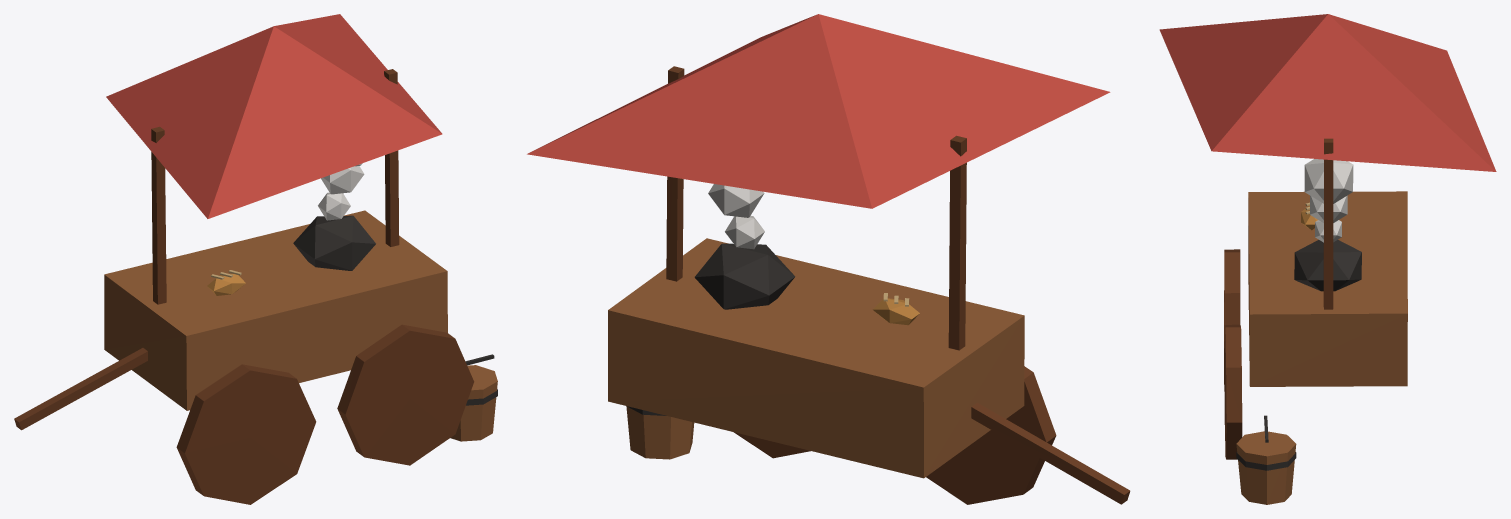
The model's file is food-cart.glb.
3 renders of one model, left to right at view 1: azimuth 30°, elevation 25°; view 2: azimuth 150°, elevation 25°; view 3: azimuth 270°, elevation 25°, orthographic. The views are drawn at different scales.
Parts seen in each view (by area): view 1: props/food-cart; view 2: props/food-cart; view 3: props/food-cart.
Part boxes in pixels (x1,y1,x2,y2): props/food-cart: (14, 14, 497, 504); props/food-cart: (527, 14, 1130, 504); props/food-cart: (1159, 14, 1496, 504).
Bounding box in the file's own units: 3.11 × 2.81 × 2.12.
